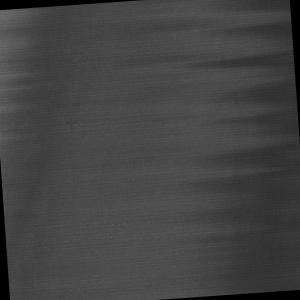Wrinkle: (161, 1, 300, 299), (1, 4, 119, 265)
